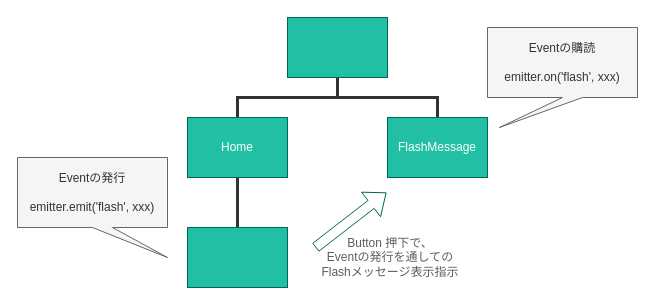
Some shapes in this 655 by 305 pixel diagram are drawn without their labels. Each missing label, with the centre of its shape:
"App" belongs at (x=337, y=47).
"Buttons" belongs at (x=237, y=257).
